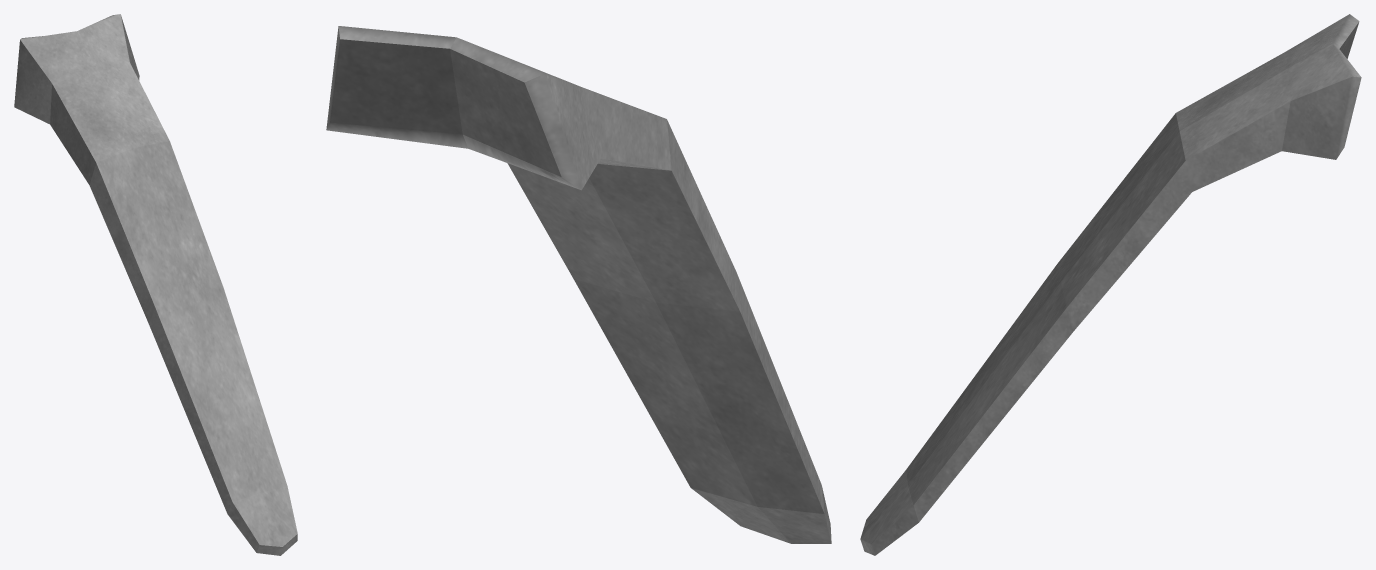
Rendered from Hand_grenade_primer.fbx.
The picture shows the model from 3 angles, left to right: view 1: azimuth 30°, elevation 25°; view 2: azimuth 150°, elevation 25°; view 3: azimuth 270°, elevation 25°; orthographic projection. The views are drawn at different scales.
Parts seen in each view (by area): view 1: Lever; view 2: Lever; view 3: Lever.
Boxes of the visible parts, x1,y1,x2,y2 form: Lever: (14, 14, 297, 555); Lever: (326, 26, 831, 543); Lever: (860, 14, 1361, 555).
Size of the model in its own units: 5.66 by 16.83 by 15.4.
